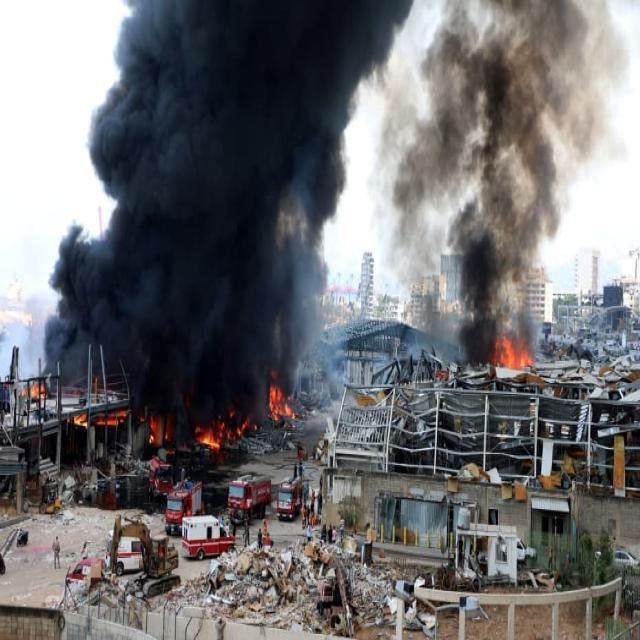Fire: (491, 332, 540, 385), (189, 418, 242, 463), (68, 401, 128, 432), (142, 408, 178, 450), (265, 378, 294, 428), (25, 376, 48, 404)
Smoke: (58, 2, 410, 383), (430, 1, 607, 332)
